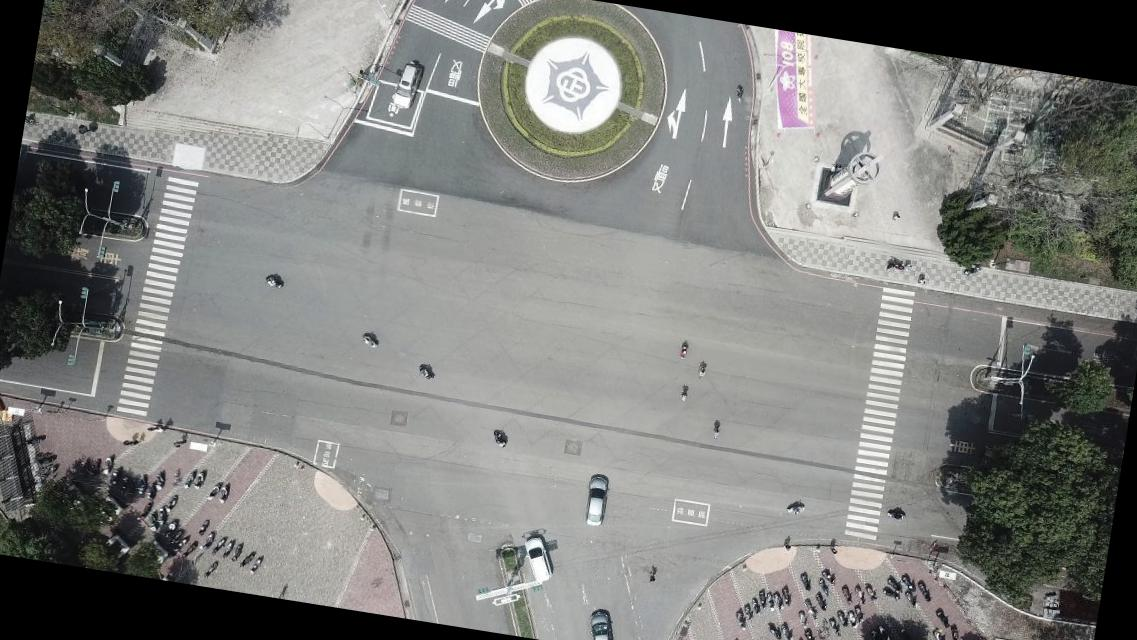vehicle: (517, 532, 557, 584), (388, 58, 422, 112), (581, 472, 611, 528), (584, 607, 619, 639)
